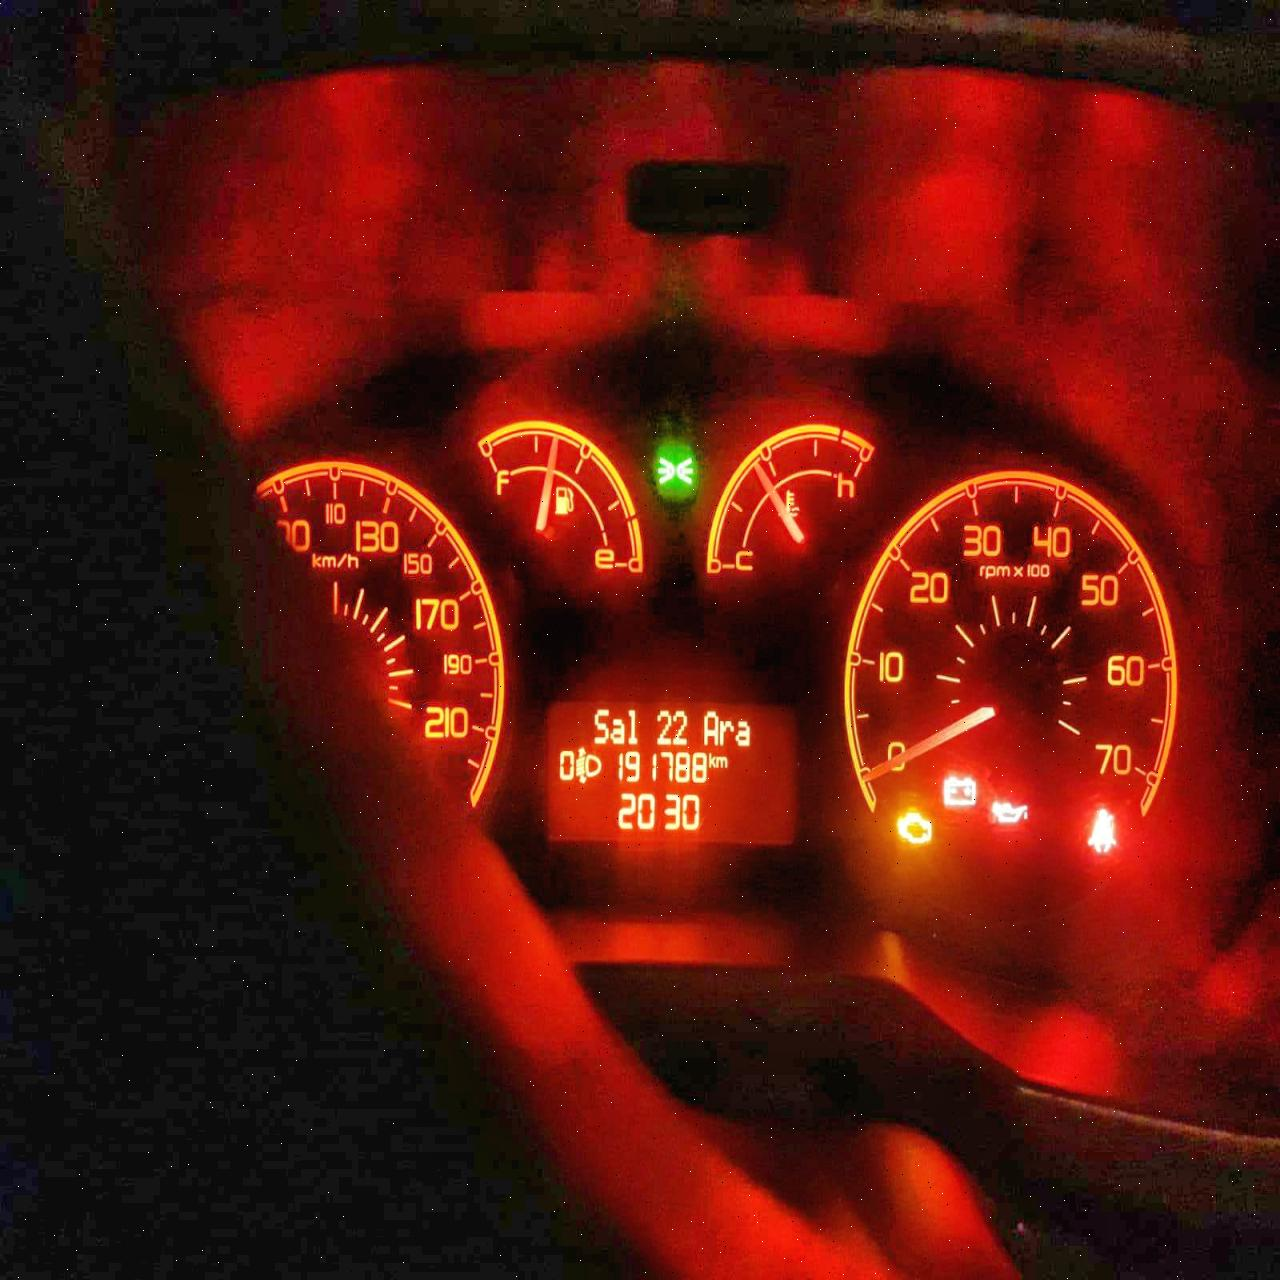0: (680, 792, 699, 830), (635, 792, 654, 829), (558, 748, 572, 781)
1: (649, 750, 658, 788), (617, 749, 622, 781)
2: (617, 789, 636, 830), (670, 709, 687, 745), (655, 708, 670, 745)
3: (663, 790, 680, 830)
7: (660, 749, 674, 782)
8: (674, 749, 689, 783), (692, 749, 706, 783)
9: (624, 748, 641, 784)
X: (593, 702, 608, 745), (701, 708, 717, 747), (735, 716, 751, 747), (627, 707, 639, 747), (720, 716, 734, 747), (611, 716, 625, 742), (716, 753, 728, 769), (708, 749, 716, 768)
odometer: (535, 687, 808, 858)
